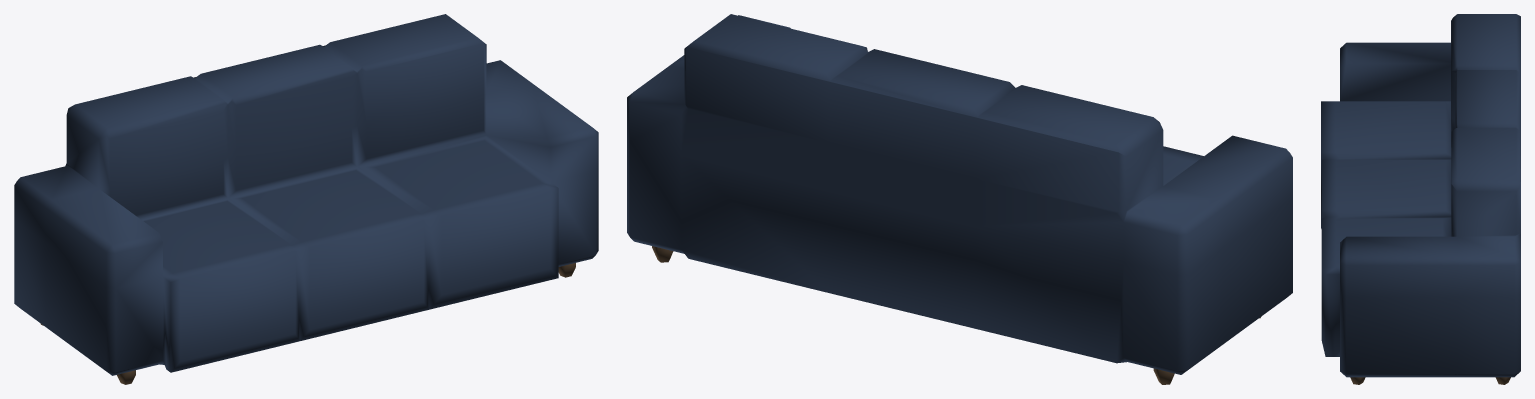
The model's file is Couch_LivingRoom_V1.fbx.
The picture shows the model from 3 angles, left to right: view 1: azimuth 30°, elevation 25°; view 2: azimuth 150°, elevation 25°; view 3: azimuth 270°, elevation 25°; orthographic projection. The views are drawn at different scales.
Visible parts, largest first — view 1: Cube; view 2: Cube; view 3: Cube.
Boxes of the visible parts, x1,y1,x2,y2 form: Cube: (14,14,598,375); Cube: (627,14,1292,374); Cube: (1321,14,1520,377).
Size of the model in its own units: 349 by 139 by 134.
